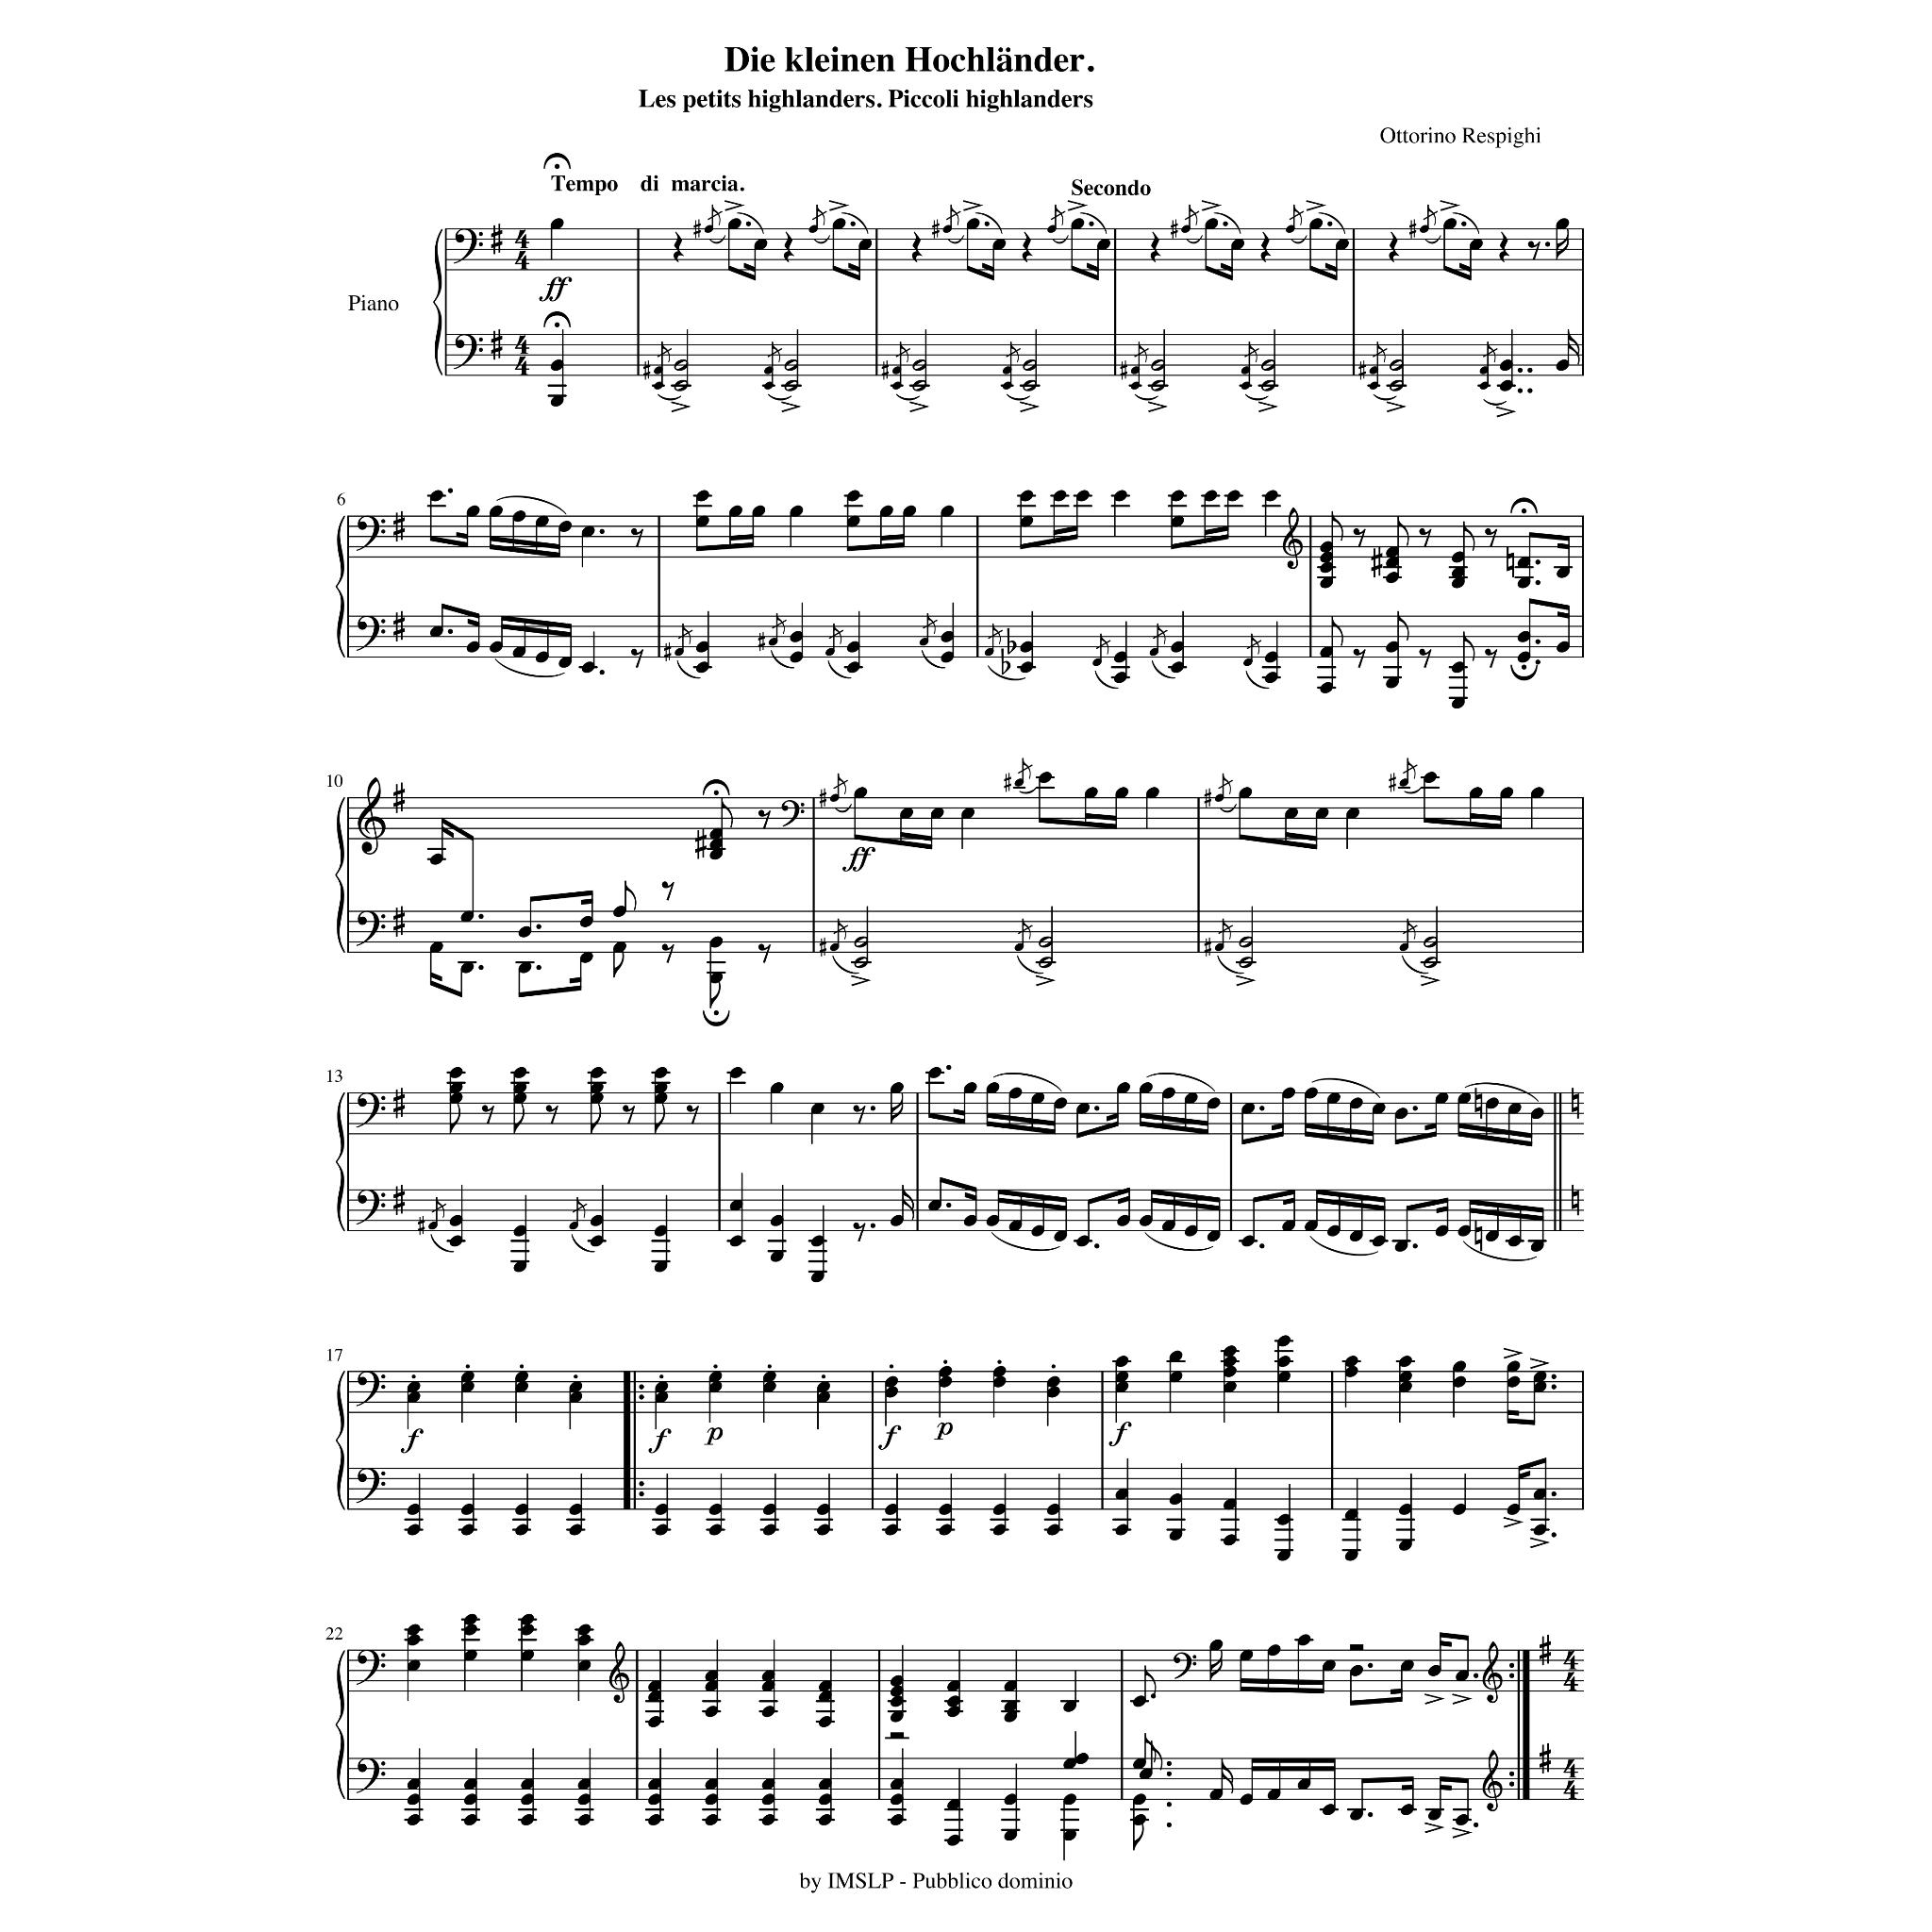brace: (334, 798, 345, 954), (334, 1651, 345, 1799), (432, 230, 442, 377), (334, 515, 345, 658), (334, 1092, 345, 1233), (334, 1371, 345, 1511)
fClef: (354, 1092, 386, 1129), (354, 1189, 386, 1226), (354, 1757, 386, 1794), (354, 616, 386, 651), (354, 517, 386, 552), (354, 911, 386, 947), (354, 1468, 386, 1504), (354, 1371, 386, 1407), (354, 1651, 386, 1686), (453, 334, 483, 370), (453, 228, 483, 264)
flag16thDown: (1555, 228, 1569, 260), (890, 1093, 902, 1123), (1210, 1651, 1223, 1681)
flag16thUp: (1568, 331, 1580, 366), (902, 1185, 915, 1221), (1221, 1759, 1233, 1794)
flag8thDown: (589, 1104, 602, 1134), (614, 947, 625, 977), (709, 978, 720, 1008), (655, 1104, 665, 1134), (513, 1104, 524, 1134), (449, 1104, 460, 1134), (1134, 1821, 1145, 1851)
flag8thUp: (1242, 336, 1260, 364), (1288, 198, 1304, 226), (1371, 336, 1387, 364), (1134, 336, 1150, 364), (1184, 198, 1200, 226), (1422, 198, 1438, 226), (1481, 336, 1497, 364), (706, 198, 722, 226), (810, 198, 826, 226), (766, 336, 782, 364), (656, 336, 672, 364), (1005, 336, 1021, 364), (945, 198, 961, 226), (1049, 198, 1065, 226), (895, 336, 911, 364), (1017, 752, 1033, 780), (1401, 752, 1417, 780), (571, 1191, 587, 1219), (430, 1191, 446, 1219), (1246, 628, 1261, 655), (1095, 628, 1111, 655), (1152, 617, 1168, 644), (678, 617, 694, 644), (828, 617, 844, 644), (987, 617, 1003, 644), (922, 609, 938, 635), (770, 609, 786, 635), (1217, 913, 1233, 939), (1217, 768, 1233, 794), (1017, 913, 1033, 939), (1401, 913, 1417, 939), (832, 913, 847, 939), (832, 768, 847, 794), (1145, 1732, 1155, 1764), (1332, 616, 1343, 646), (1332, 511, 1343, 541), (1398, 612, 1408, 642), (1398, 517, 1408, 547), (1463, 522, 1474, 552), (1463, 632, 1474, 662), (625, 881, 635, 911), (722, 798, 732, 828), (1145, 1667, 1155, 1697), (1152, 1741, 1162, 1771)
gClef: (357, 777, 386, 855)
noteheadBlack: (1309, 218, 1323, 230), (1334, 239, 1348, 251), (1231, 239, 1246, 251), (1205, 218, 1219, 230), (1468, 239, 1483, 251), (1442, 218, 1456, 230), (1555, 359, 1569, 372), (1555, 218, 1569, 230), (1499, 359, 1513, 372), (1499, 380, 1513, 393), (754, 239, 768, 251), (727, 218, 741, 230), (858, 239, 872, 251), (550, 395, 564, 407), (550, 359, 564, 372), (550, 218, 564, 230), (832, 218, 846, 230), (993, 239, 1007, 251), (966, 218, 980, 230), (1095, 239, 1109, 251), (1070, 218, 1085, 230), (1263, 672, 1277, 685), (1320, 577, 1334, 589), (1320, 552, 1334, 564), (1320, 541, 1334, 554), (1263, 651, 1277, 663), (1263, 490, 1277, 502), (1226, 490, 1240, 502), (1320, 646, 1334, 658), (1320, 681, 1334, 694), (1053, 490, 1067, 502), (1019, 515, 1033, 527), (1019, 490, 1033, 502), (1019, 662, 1033, 674), (1019, 640, 1033, 653), (1169, 515, 1184, 527), (1169, 490, 1184, 502), (1169, 662, 1184, 674), (1169, 640, 1184, 653), (1203, 490, 1217, 502), (1113, 490, 1127, 502), (1113, 672, 1127, 685), (1113, 651, 1127, 663), (1555, 566, 1569, 579), (1555, 640, 1569, 653), (1451, 577, 1465, 589), (1451, 566, 1465, 579), (1451, 552, 1465, 564), (1451, 697, 1465, 709), (1451, 662, 1465, 674), (1384, 571, 1398, 584), (1384, 556, 1398, 568), (1384, 545, 1398, 557), (1384, 678, 1398, 690), (1384, 640, 1398, 653), (1516, 577, 1530, 589), (1516, 556, 1530, 568), (1516, 651, 1530, 663), (1516, 630, 1530, 642), (557, 520, 571, 533), (557, 656, 571, 669), (580, 525, 594, 538), (580, 662, 594, 674), (534, 651, 548, 663), (534, 515, 548, 527), (428, 490, 442, 502), (428, 626, 442, 639), (488, 640, 502, 653), (511, 511, 525, 524), (511, 646, 525, 658), (465, 640, 479, 653), (846, 640, 860, 653), (846, 662, 860, 674), (846, 490, 860, 502), (846, 515, 860, 527), (939, 630, 954, 642), (939, 651, 954, 663), (695, 640, 709, 653), (695, 662, 709, 674), (695, 490, 709, 502), (695, 515, 709, 527), (789, 651, 803, 663), (789, 630, 803, 642), (1284, 807, 1299, 819), (1238, 787, 1253, 800), (1039, 771, 1053, 784), (961, 807, 975, 819), (1145, 787, 1159, 800), (1115, 787, 1129, 800), (1083, 787, 1097, 800), (1530, 787, 1545, 800), (1345, 807, 1359, 819), (1315, 807, 1329, 819), (1500, 787, 1514, 800), (1468, 787, 1483, 800), (1422, 771, 1437, 784), (579, 915, 593, 927), (579, 952, 593, 964), (517, 925, 531, 938), (517, 962, 531, 975), (612, 906, 626, 918), (612, 941, 626, 954), (428, 853, 442, 865), (460, 962, 474, 975), (460, 911, 474, 924), (428, 941, 442, 954), (929, 807, 943, 819), (899, 807, 913, 819), (853, 787, 867, 800), (709, 936, 724, 948), (709, 971, 724, 984), (709, 828, 724, 840), (709, 839, 724, 851), (709, 849, 724, 862), (1240, 1235, 1254, 1247), (1240, 1102, 1254, 1115), (1325, 1092, 1339, 1104), (1325, 1224, 1339, 1237), (1281, 1221, 1295, 1233), (1304, 1221, 1318, 1233), (1116, 1214, 1131, 1226), (1138, 1081, 1152, 1093), (1138, 1214, 1152, 1226), (1076, 1102, 1090, 1115), (1076, 1235, 1090, 1247), (1116, 1081, 1131, 1093), (1207, 1097, 1221, 1109), (1207, 1230, 1221, 1242), (1161, 1221, 1175, 1233), (1184, 1092, 1198, 1104), (1184, 1224, 1198, 1237), (1530, 1240, 1545, 1253), (1507, 1102, 1522, 1115), (1507, 1235, 1522, 1247), (1530, 1108, 1545, 1120), (1394, 1108, 1408, 1120), (1394, 1240, 1408, 1253), (1348, 1230, 1362, 1242), (1371, 1102, 1385, 1115), (1371, 1235, 1385, 1247), (1484, 1230, 1499, 1242), (1484, 1097, 1499, 1109), (1435, 1092, 1449, 1104), (1435, 1224, 1449, 1237), (1348, 1097, 1362, 1109), (1458, 1092, 1472, 1104), (1458, 1224, 1472, 1237), (653, 1092, 667, 1104), (653, 1081, 667, 1093), (653, 1067, 667, 1079), (653, 1261, 667, 1274), (653, 1224, 667, 1237), (589, 1092, 603, 1104), (589, 1081, 603, 1093), (589, 1067, 603, 1079), (589, 1235, 603, 1247), (589, 1214, 603, 1226), (770, 1081, 784, 1093), (770, 1251, 784, 1263), (770, 1214, 784, 1226), (729, 1067, 743, 1079), (729, 1235, 743, 1247), (729, 1200, 743, 1212), (449, 1092, 464, 1104), (449, 1081, 464, 1093), (449, 1067, 464, 1079), (449, 1235, 464, 1247), (513, 1261, 527, 1274), (513, 1224, 527, 1237), (513, 1067, 527, 1079), (449, 1214, 464, 1226), (513, 1092, 527, 1104), (513, 1081, 527, 1093), (985, 1214, 1000, 1226), (985, 1081, 1000, 1093), (962, 1081, 977, 1093), (962, 1214, 977, 1226), (1053, 1230, 1067, 1242), (1053, 1097, 1067, 1109), (1008, 1221, 1023, 1233), (1031, 1092, 1046, 1104), (1031, 1224, 1046, 1237), (890, 1214, 904, 1226), (890, 1081, 904, 1093), (810, 1102, 824, 1115), (810, 1270, 824, 1283), (927, 1067, 941, 1079), (927, 1200, 941, 1212), (810, 1235, 824, 1247), (1223, 1499, 1237, 1511), (1223, 1534, 1237, 1546), (1223, 1346, 1237, 1359), (1223, 1355, 1237, 1368), (1223, 1366, 1237, 1378), (1223, 1382, 1237, 1394), (1276, 1371, 1290, 1384), (1168, 1493, 1182, 1506), (1168, 1529, 1182, 1541), (993, 1523, 1007, 1536), (1345, 1509, 1359, 1522), (1345, 1550, 1359, 1562), (1345, 1355, 1359, 1368), (1345, 1366, 1359, 1378), (993, 1504, 1007, 1516), (1276, 1550, 1290, 1562), (1276, 1336, 1290, 1348), (1276, 1355, 1290, 1368), (1168, 1350, 1182, 1362), (1115, 1488, 1129, 1500), (1115, 1523, 1129, 1536), (1115, 1355, 1129, 1368), (1115, 1371, 1129, 1384), (1115, 1382, 1129, 1394), (1046, 1504, 1060, 1516), (1046, 1523, 1060, 1536), (1168, 1371, 1182, 1384), (1046, 1376, 1060, 1389), (1532, 1488, 1546, 1500), (1532, 1523, 1546, 1536), (1532, 1371, 1546, 1384), (1532, 1382, 1546, 1394), (1398, 1504, 1412, 1516), (1398, 1539, 1412, 1552), (1398, 1355, 1412, 1368), (1398, 1371, 1412, 1384), (1398, 1382, 1412, 1394), (1506, 1504, 1520, 1516), (1506, 1361, 1520, 1373), (1506, 1376, 1520, 1389), (1451, 1504, 1465, 1516), (1451, 1361, 1465, 1373), (1451, 1376, 1465, 1389), (568, 1504, 582, 1516), (568, 1523, 582, 1536), (568, 1382, 582, 1394), (568, 1391, 582, 1403), (515, 1504, 529, 1516), (515, 1523, 529, 1536), (515, 1371, 529, 1384), (515, 1382, 529, 1394), (655, 1504, 669, 1516), (655, 1523, 669, 1536), (655, 1382, 669, 1394), (655, 1391, 669, 1403), (460, 1504, 474, 1516), (460, 1523, 474, 1536), (460, 1371, 474, 1384), (460, 1382, 474, 1394), (407, 1504, 421, 1516), (407, 1523, 421, 1536), (407, 1382, 421, 1394), (407, 1391, 421, 1403), (883, 1504, 897, 1516), (883, 1523, 897, 1536), (883, 1376, 897, 1389), (993, 1366, 1007, 1378), (993, 1376, 1007, 1389), (938, 1504, 952, 1516), (938, 1523, 952, 1536), (938, 1366, 952, 1378), (938, 1376, 952, 1389), (763, 1504, 777, 1516), (763, 1523, 777, 1536), (763, 1371, 777, 1384), (763, 1382, 777, 1394), (708, 1523, 722, 1536), (708, 1504, 722, 1516), (816, 1504, 830, 1516), (816, 1523, 830, 1536), (816, 1382, 830, 1394), (816, 1391, 830, 1403), (708, 1382, 722, 1394), (708, 1371, 722, 1384), (1208, 1789, 1223, 1801), (1208, 1638, 1223, 1651), (1063, 1700, 1077, 1713), (1267, 1789, 1281, 1801), (1267, 1645, 1281, 1658), (1238, 1794, 1253, 1806), (1238, 1649, 1253, 1661), (1138, 1767, 1152, 1780), (1132, 1794, 1146, 1806), (1132, 1813, 1146, 1826), (1132, 1759, 1146, 1771), (1132, 1695, 1146, 1707), (1076, 1752, 1090, 1764), (1063, 1759, 1077, 1771), (1063, 1794, 1077, 1806), (1063, 1829, 1077, 1842), (1454, 1813, 1468, 1826), (1454, 1670, 1468, 1683), (1426, 1808, 1440, 1821), (1426, 1665, 1440, 1677), (1322, 1803, 1336, 1815), (1348, 1808, 1362, 1821), (1348, 1665, 1362, 1677), (1322, 1660, 1336, 1672), (1297, 1778, 1311, 1790), (1297, 1635, 1311, 1647), (1399, 1803, 1414, 1815), (1399, 1660, 1414, 1672), (577, 1635, 591, 1647), (648, 1716, 662, 1729), (577, 1778, 591, 1790), (577, 1794, 591, 1806), (577, 1813, 591, 1826), (577, 1624, 591, 1637), (648, 1690, 662, 1702), (577, 1660, 591, 1672), (520, 1778, 534, 1790), (520, 1794, 534, 1806), (520, 1813, 534, 1826), (520, 1614, 534, 1626), (704, 1670, 718, 1683), (704, 1681, 718, 1693), (704, 1706, 718, 1718), (520, 1624, 534, 1637), (648, 1778, 662, 1790), (648, 1794, 662, 1806), (648, 1813, 662, 1826), (648, 1681, 662, 1693), (407, 1635, 421, 1647), (407, 1660, 421, 1672), (407, 1624, 421, 1637), (464, 1624, 478, 1637), (520, 1649, 534, 1661), (464, 1778, 478, 1790), (464, 1794, 478, 1806), (464, 1813, 478, 1826), (464, 1614, 478, 1626), (464, 1649, 478, 1661), (407, 1778, 421, 1790), (407, 1794, 421, 1806), (407, 1813, 421, 1826), (704, 1813, 718, 1826), (890, 1778, 904, 1790), (890, 1794, 904, 1806), (890, 1813, 904, 1826), (890, 1675, 904, 1688), (1003, 1794, 1017, 1806), (1003, 1829, 1017, 1842), (1003, 1681, 1017, 1693), (1003, 1700, 1017, 1713), (1003, 1711, 1017, 1723), (947, 1835, 961, 1847), (947, 1681, 961, 1693), (947, 1695, 961, 1707), (947, 1706, 961, 1718), (761, 1670, 775, 1683), (817, 1716, 832, 1729), (761, 1778, 775, 1790), (761, 1794, 775, 1806), (761, 1813, 775, 1826), (761, 1681, 775, 1693), (761, 1706, 775, 1718), (704, 1778, 718, 1790), (704, 1794, 718, 1806), (890, 1695, 904, 1707), (817, 1778, 832, 1790), (817, 1794, 832, 1806), (817, 1813, 832, 1826), (817, 1681, 832, 1693), (817, 1690, 832, 1702), (890, 1711, 904, 1723), (1076, 490, 1088, 502), (1320, 563, 1334, 573), (488, 506, 502, 517), (465, 506, 479, 517), (879, 506, 893, 517), (902, 506, 916, 517), (939, 506, 954, 517), (727, 506, 741, 517), (752, 506, 766, 517), (789, 506, 803, 517), (1281, 1088, 1295, 1099), (1304, 1088, 1318, 1099), (1161, 1088, 1175, 1099), (1008, 1088, 1023, 1099), (1276, 1514, 1290, 1525), (1046, 1387, 1060, 1398), (883, 1387, 897, 1398), (947, 1799, 961, 1810), (890, 1686, 904, 1697), (1284, 225, 1295, 234), (1368, 366, 1378, 375), (763, 366, 773, 375), (653, 366, 663, 375), (1001, 366, 1012, 375), (1242, 658, 1253, 667), (1148, 648, 1159, 656), (918, 639, 929, 648), (1214, 943, 1224, 952), (1014, 943, 1024, 952), (1014, 778, 1024, 787), (1240, 366, 1249, 375), (1180, 225, 1189, 234), (1479, 366, 1488, 375), (1419, 225, 1428, 234), (704, 225, 713, 234), (809, 225, 817, 234), (1131, 366, 1139, 375), (1047, 225, 1056, 234), (892, 366, 901, 375), (943, 225, 952, 234), (1092, 658, 1100, 667), (674, 648, 683, 656), (824, 648, 833, 656), (984, 648, 993, 656), (768, 639, 777, 648), (1399, 943, 1408, 952), (1399, 778, 1408, 787), (830, 943, 839, 952), (428, 1223, 437, 1231), (570, 1223, 579, 1231), (1368, 382, 1378, 389), (763, 382, 773, 389), (653, 382, 663, 389), (1001, 382, 1012, 389), (1214, 794, 1224, 801), (1240, 382, 1249, 389), (1479, 382, 1488, 389), (1131, 382, 1139, 389), (892, 382, 901, 389), (830, 794, 839, 801)
noteheadHalf: (1260, 359, 1276, 372), (1150, 359, 1166, 372), (1150, 380, 1166, 393), (1260, 380, 1276, 393), (1021, 380, 1037, 393), (1021, 359, 1037, 372), (911, 359, 927, 372), (911, 380, 927, 393), (1422, 936, 1438, 948), (1422, 957, 1438, 970), (853, 936, 869, 948), (853, 957, 869, 970), (1389, 359, 1403, 372), (1389, 380, 1403, 393), (784, 359, 798, 372), (784, 380, 798, 393), (674, 380, 688, 393), (674, 359, 688, 372), (1238, 957, 1253, 970), (1238, 936, 1253, 948), (1039, 936, 1053, 948), (1039, 957, 1053, 970)
rest8th: (757, 943, 771, 964), (1527, 241, 1541, 260), (1417, 529, 1431, 548), (1417, 649, 1431, 669), (630, 529, 644, 548), (630, 649, 644, 669), (757, 810, 771, 830), (621, 1106, 635, 1125), (545, 1106, 559, 1125), (662, 943, 674, 964), (1353, 649, 1366, 669), (1353, 529, 1366, 548), (1484, 529, 1497, 548), (1484, 649, 1497, 669), (662, 881, 674, 901), (686, 1106, 699, 1125), (481, 1106, 494, 1125), (853, 1106, 865, 1125), (853, 1223, 865, 1242)
restHalf: (883, 1732, 909, 1739), (1350, 1644, 1364, 1651)
restQuarter: (1387, 232, 1399, 264), (1148, 232, 1161, 264), (672, 232, 685, 264), (1021, 232, 1033, 264), (1260, 232, 1270, 264), (1499, 232, 1509, 264), (784, 232, 794, 264), (911, 232, 922, 264)
